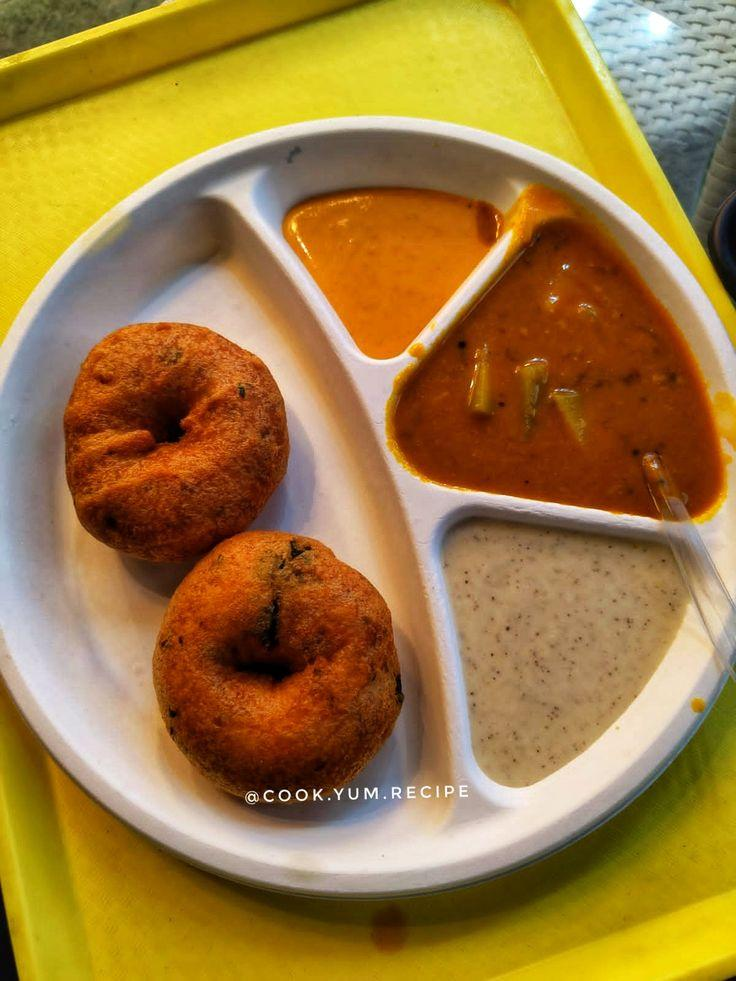coconut chutney: (423, 515, 691, 786)
medu vada: (80, 307, 400, 818)
sambhar: (428, 267, 725, 533)
